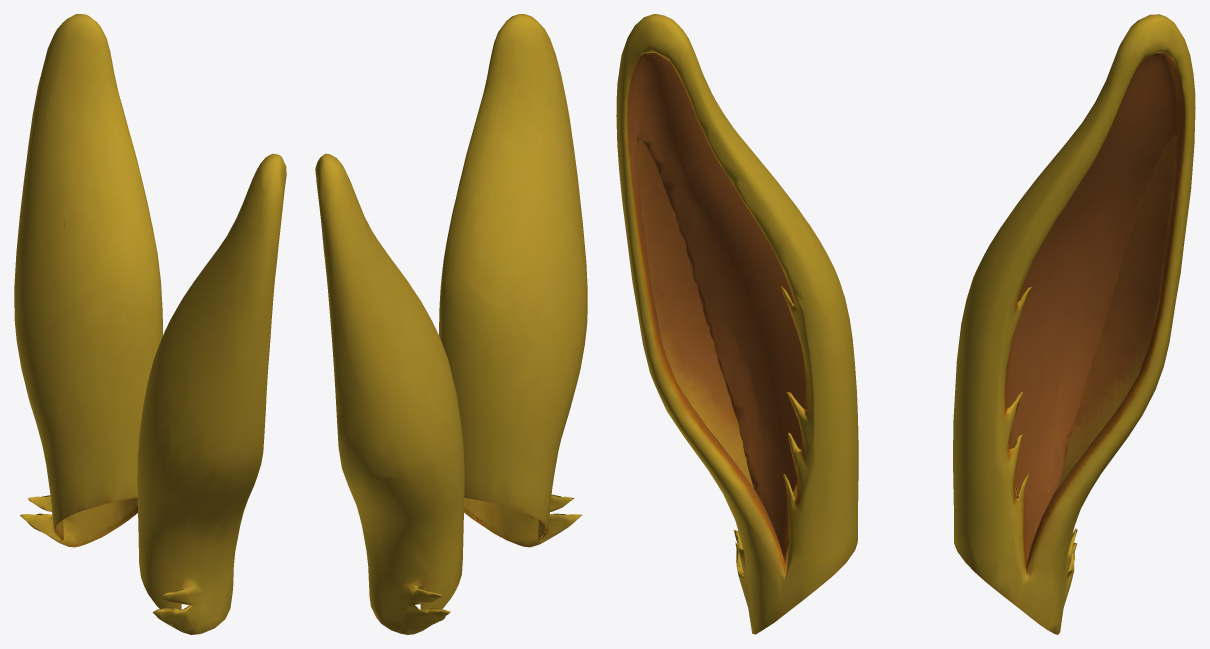
The model's file is rabbit_ears.fbx.
The picture shows the model from 3 angles, left to right: view 1: azimuth 30°, elevation 25°; view 2: azimuth 150°, elevation 25°; view 3: azimuth 270°, elevation 25°; orthographic projection. The views are drawn at different scales.
Parts seen in each view (by area): view 1: rabbit_ears; view 2: rabbit_ears; view 3: rabbit_ears.
Boxes of the visible parts, box(x1,y1,x2,y2) form: rabbit_ears: box(14, 14, 286, 634); rabbit_ears: box(315, 14, 587, 634); rabbit_ears: box(616, 14, 1195, 634).
Bounding box in the file's own units: 23.53 × 100 × 82.69.
